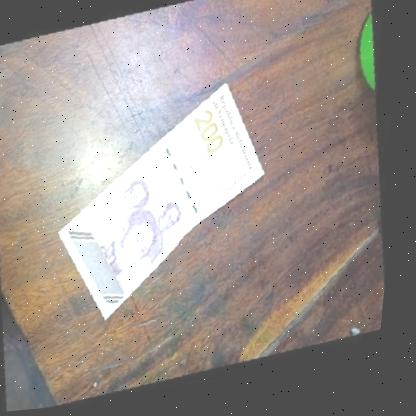two_hundred-front-vef: (51, 81, 281, 330)
